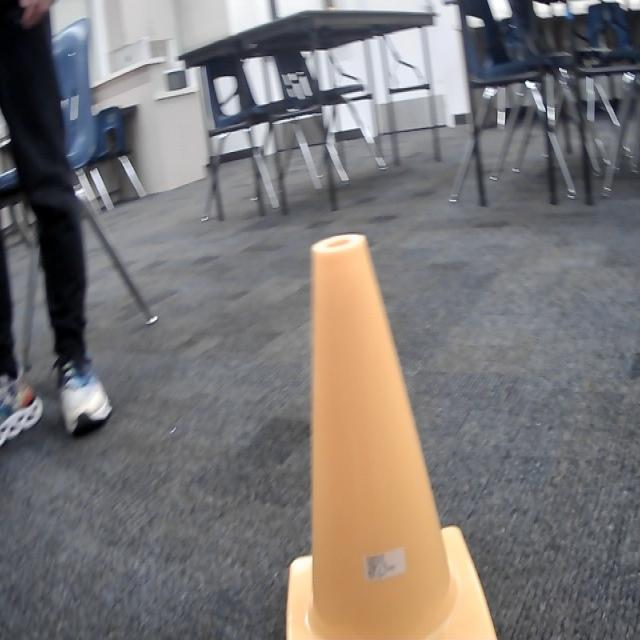cone: (284, 229, 498, 640)
